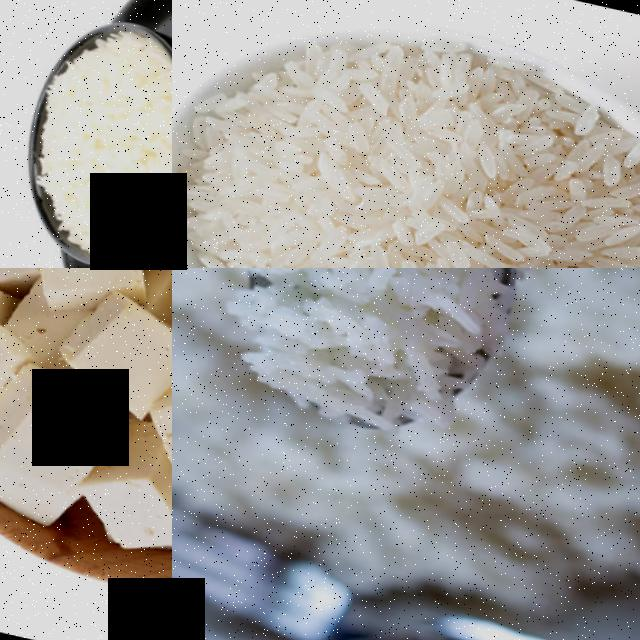tofu: (53, 277, 172, 417), (0, 365, 127, 493), (0, 309, 25, 420)
white rice: (172, 0, 640, 268), (234, 268, 505, 438), (20, 13, 172, 267)
